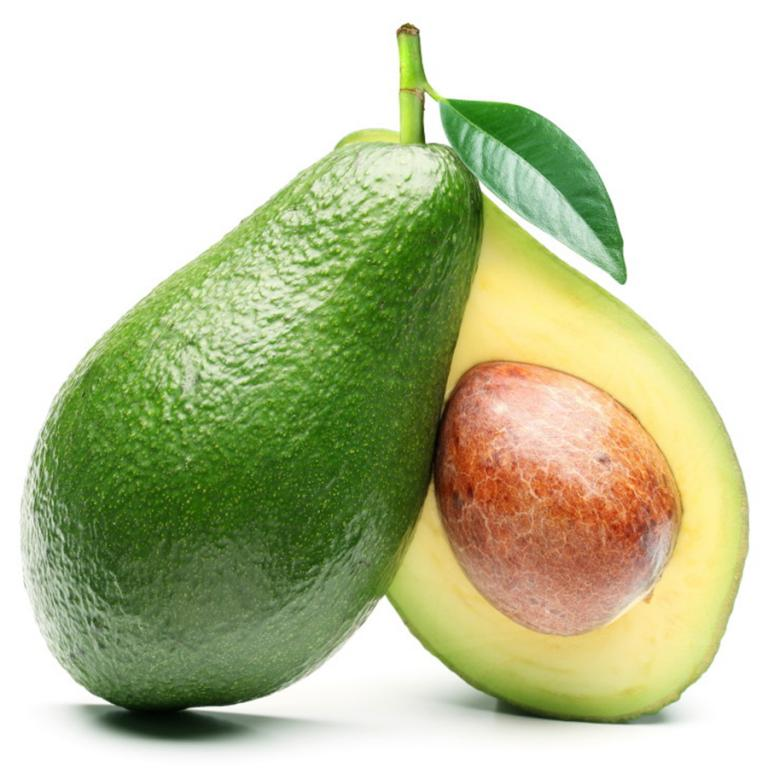unripe: (21, 141, 484, 710)
